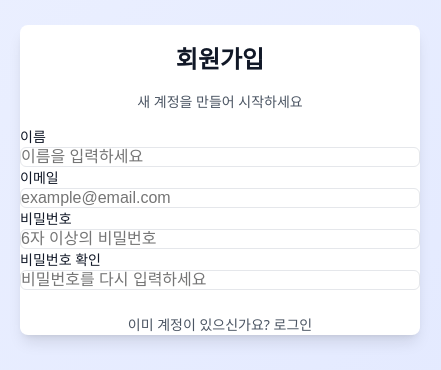
Test case: Register 페이지 › 폼 유효성 검증 › 비밀번호가 일치하지 않으면 에러가 표시된다
The width and height of the screenshot is (441, 370).
Expected: the password field labelled "비밀번호" is shown, [20,229,420,249]
Type "테스트 사용자" into the field labelled "이름" at point(220, 157), box [20,147,420,167]
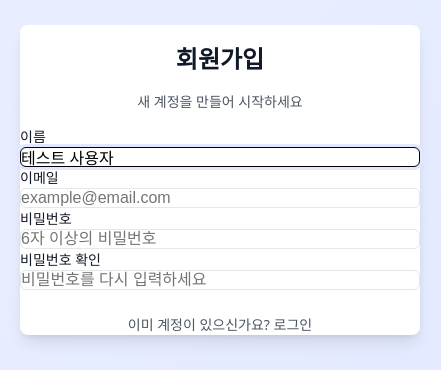
Type "new@example.com" into the field labelled "이메일" at point(220, 198), box [20,188,420,208]
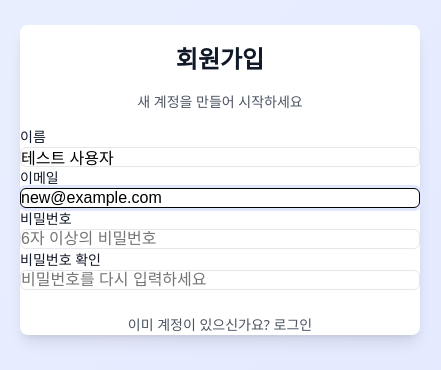
Type "password123" into the password field labelled "비밀번호" at point(220, 239), box [20,229,420,249]
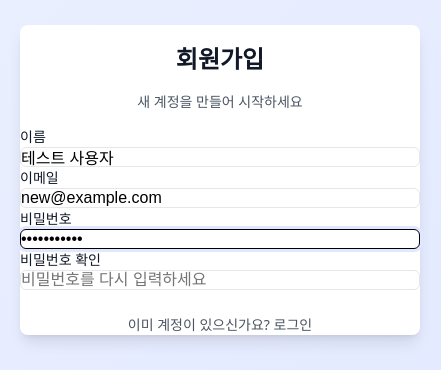
Type "different123" into the password field labelled "비밀번호 확인" at point(220, 280), box [20,270,420,290]
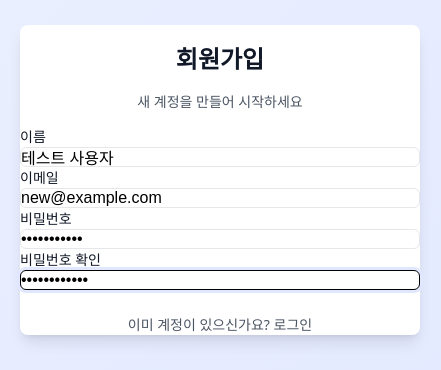
Click the button "회원가입" at point(220, 302), box [20,290,420,314]
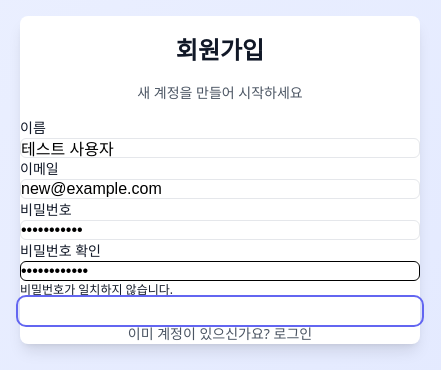
Result: the text "비밀번호가 일치하지 않습니다." is shown at [20,281,173,298]
